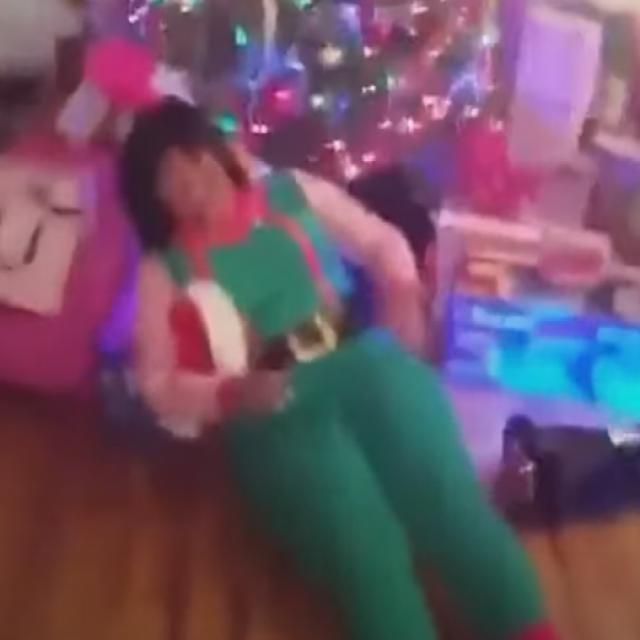fall: (120, 96, 570, 638)
